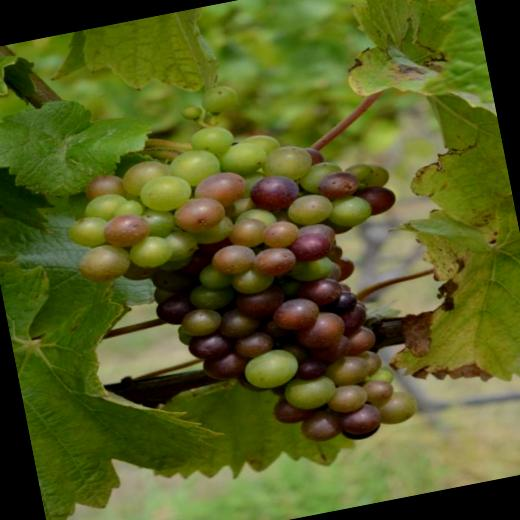Orange: (46, 57, 440, 486)
